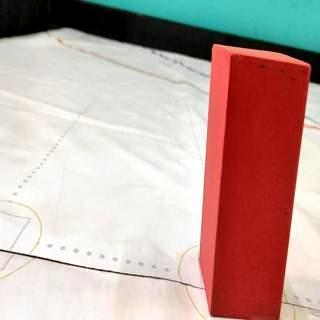redbox: (198, 42, 310, 320)
